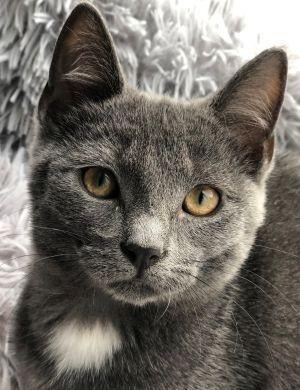rblue: (8, 1, 300, 335)
